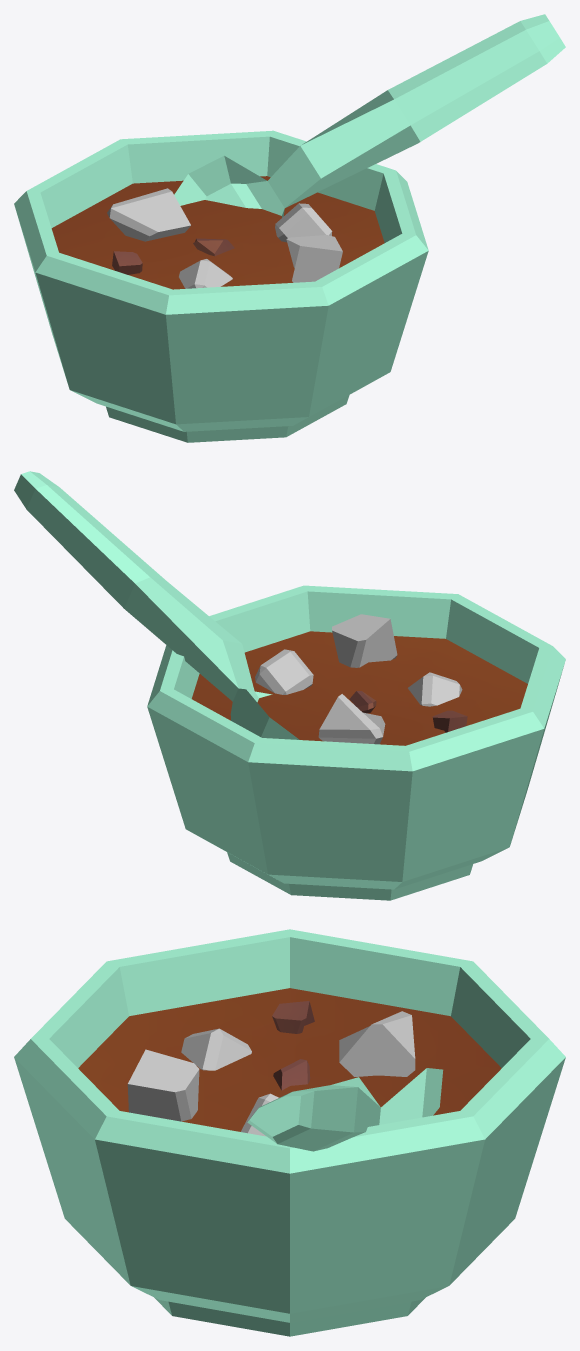
File: Food_Curry.fbx
The picture shows the model from 3 angles, top to bottom: view 1: azimuth 30°, elevation 25°; view 2: azimuth 150°, elevation 25°; view 3: azimuth 270°, elevation 25°; orthographic projection. The views are drawn at different scales.
Visible parts, largest first — view 1: Food_Curry; view 2: Food_Curry; view 3: Food_Curry.
Boxes of the visible parts, x1,y1,x2,y2 form: Food_Curry: (14, 14, 565, 442); Food_Curry: (14, 471, 565, 900); Food_Curry: (14, 929, 565, 1336).
Size of the model in its own units: 22.92 by 12.27 by 16.32.
